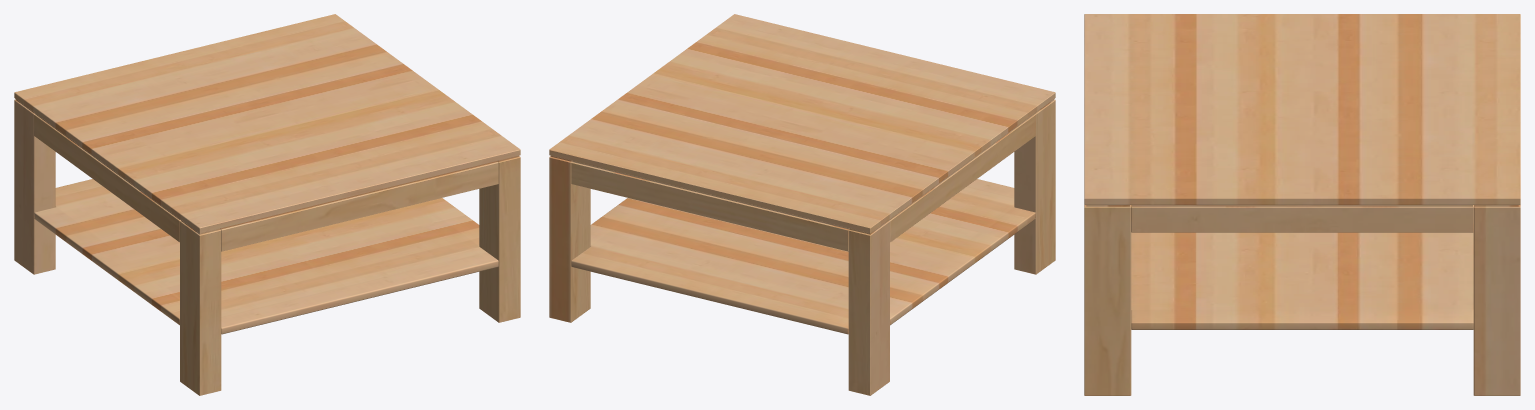
File: abo-B07K7LR4WL.glb
3 renders of one model, left to right at view 1: azimuth 30°, elevation 25°; view 2: azimuth 150°, elevation 25°; view 3: azimuth 270°, elevation 25°, orthographic. The views are drawn at different scales.
Size of the model in its own units: 0.9 by 0.45 by 0.9.
Materials: 1 (1 with a texture image).
